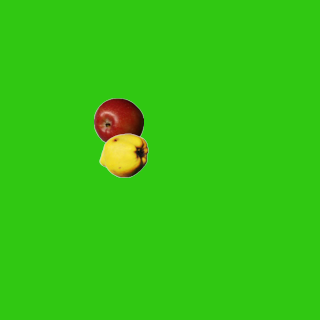Apple Braeburn: (93, 97, 143, 147)
Quince: (98, 130, 148, 180)
